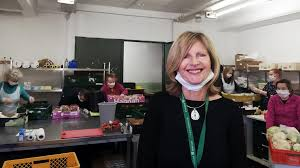mask_weared_incorrect: (182, 54, 212, 93)
with_mask: (276, 85, 290, 97), (7, 79, 20, 87), (107, 79, 117, 88), (268, 72, 277, 81), (224, 71, 234, 79)
